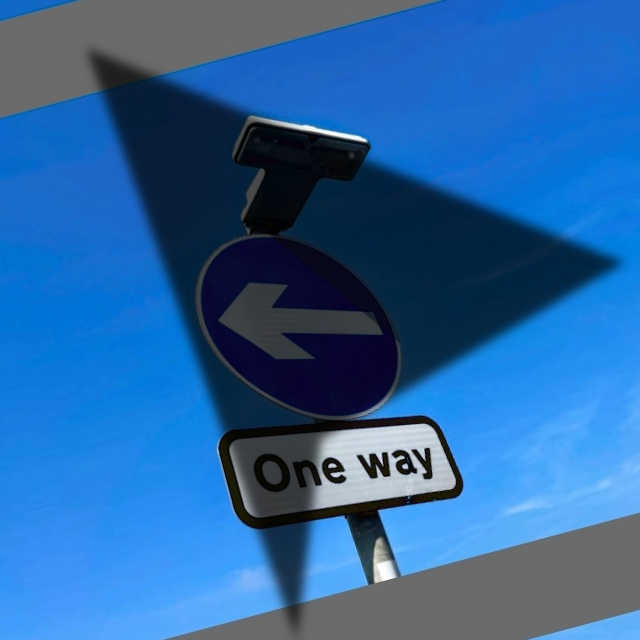Compulsory_Turn_Left: (183, 200, 422, 449)
